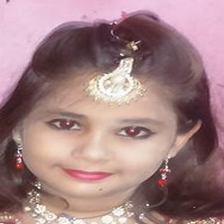no_mask: (29, 78, 163, 193)
